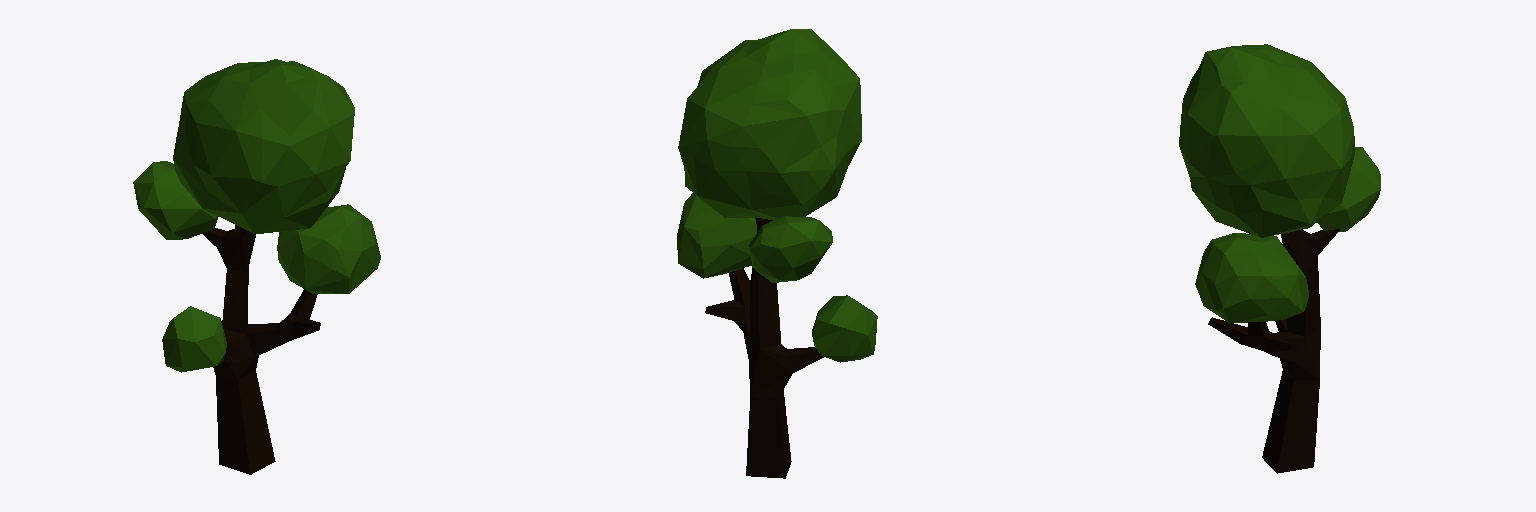
File: big_tree.obj
The picture shows the model from 3 angles: view 1: azimuth 30°, elevation 25°; view 2: azimuth 150°, elevation 25°; view 3: azimuth 270°, elevation 25°; orthographic projection.
Parts seen in each view (by area): view 1: big_tree:Tree; view 2: big_tree:Tree; view 3: big_tree:Tree.
Part boxes in pixels (bbox=[...]): big_tree:Tree: bbox=[133, 59, 380, 474]; big_tree:Tree: bbox=[677, 29, 877, 478]; big_tree:Tree: bbox=[1179, 44, 1380, 473].
Size of the model in its own units: 1.42 by 2.89 by 1.27.